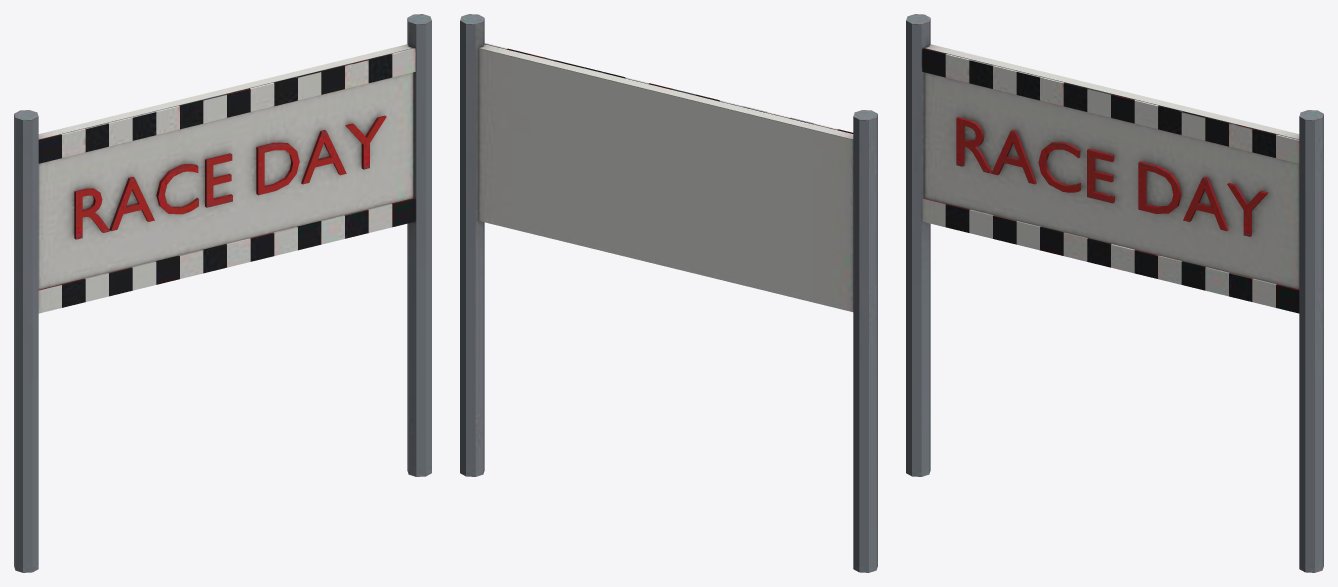
The model's file is cartel_carrera.glb.
3 renders of one model, left to right at view 1: azimuth 30°, elevation 25°; view 2: azimuth 150°, elevation 25°; view 3: azimuth 330°, elevation 25°, orthographic.
Visible parts, largest first — view 1: cartel_carrera; view 2: cartel_carrera; view 3: cartel_carrera.
Part boxes in pixels (x1,y1,x2,y2): cartel_carrera: (14,14,431,572); cartel_carrera: (460,14,877,572); cartel_carrera: (906,14,1323,572).
Size of the model in its own units: 2.64 by 2.75 by 0.14.
Materials: 1 (1 with a texture image).
